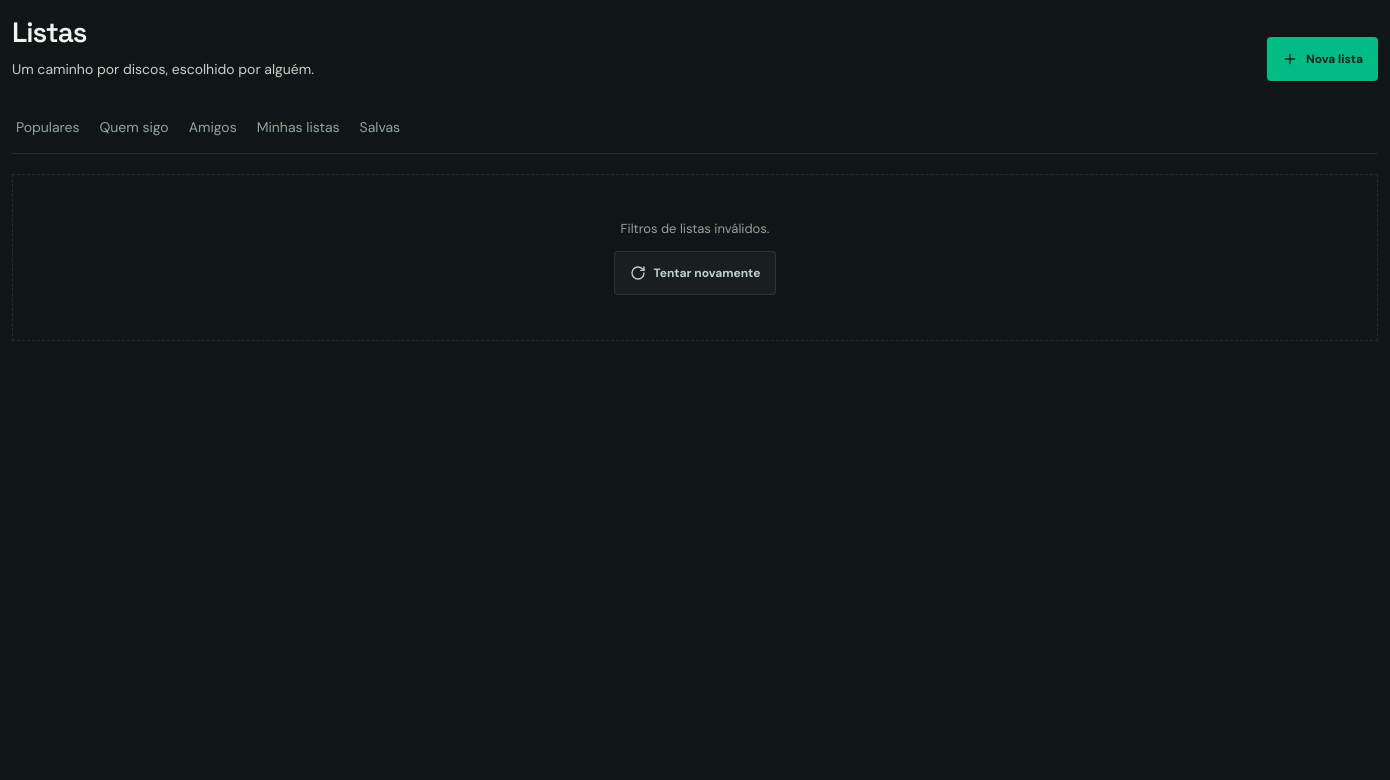
it: does not request invalid URL filters and recovers without hiding them
Expected: the message shows "Filtros de listas inválidos", [621,220,769,237]
Click the button "Tentar novamente" at (695, 273), box [614,251,776,295]
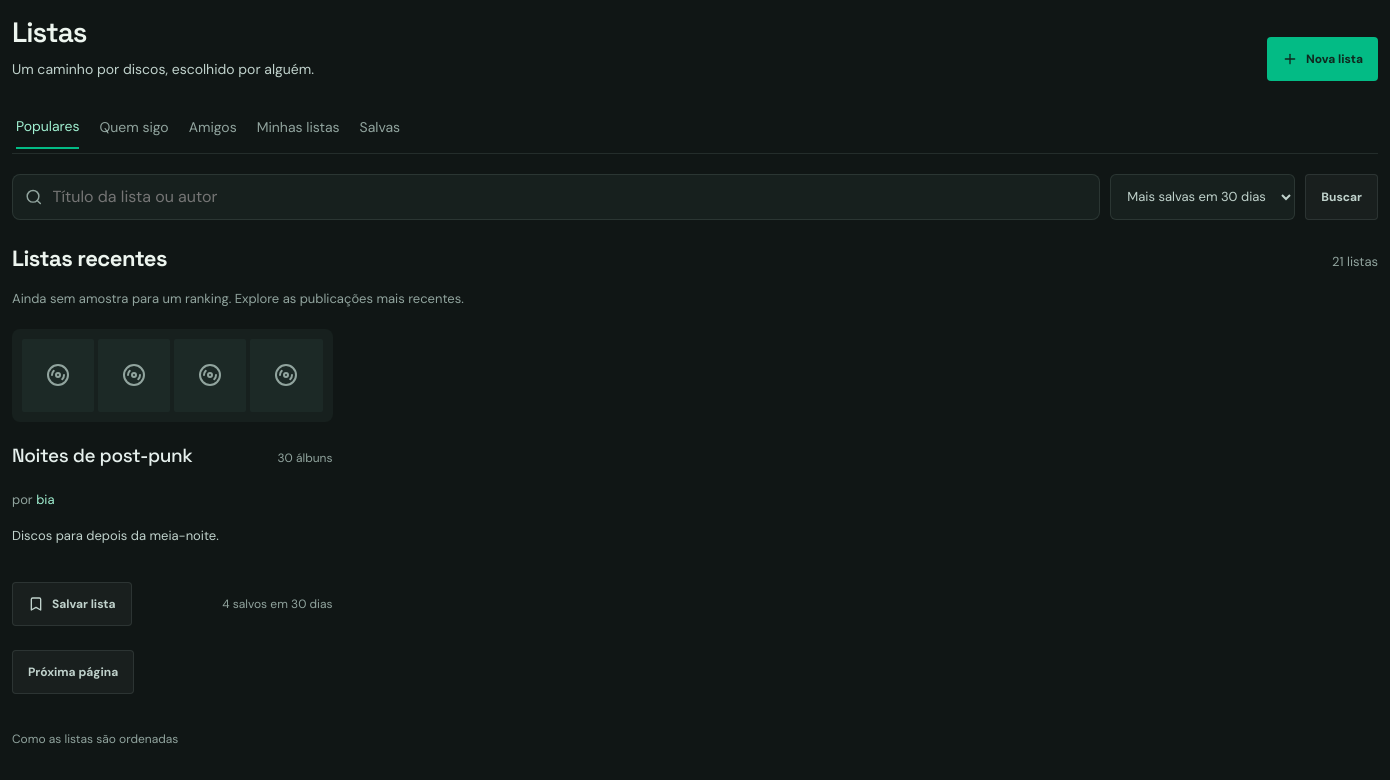
Result: the heading "Noites de post-punk" is shown at [12,443,192,468]
